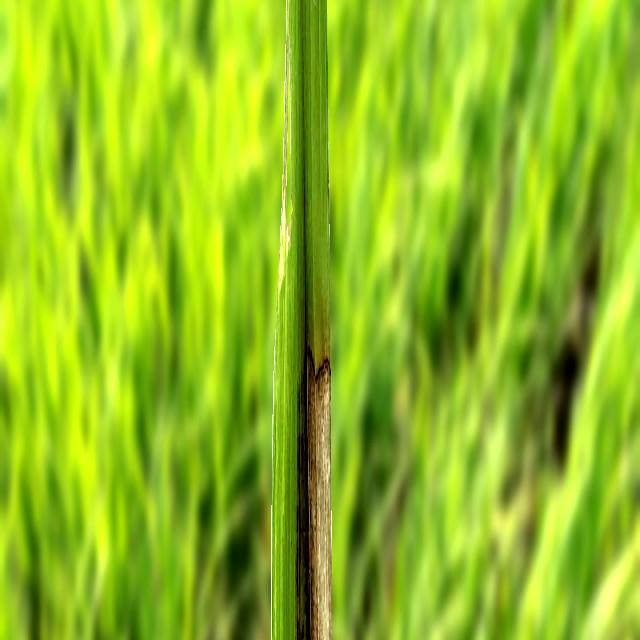BLB: (296, 344, 331, 640)
